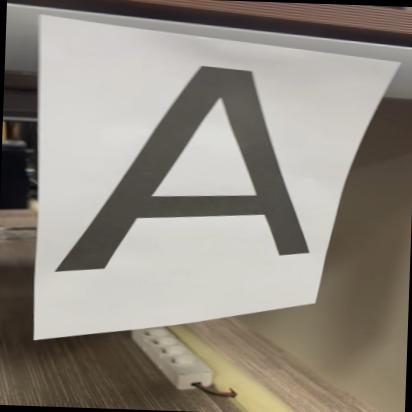seat: (48, 48, 322, 288)
